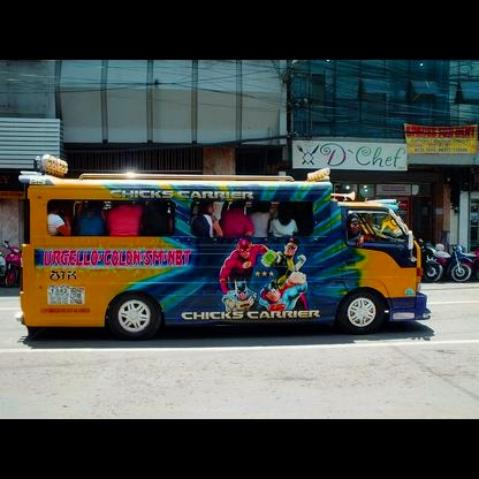jeepney: (17, 157, 440, 365)
